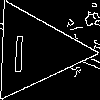I: (10, 26, 28, 73)
